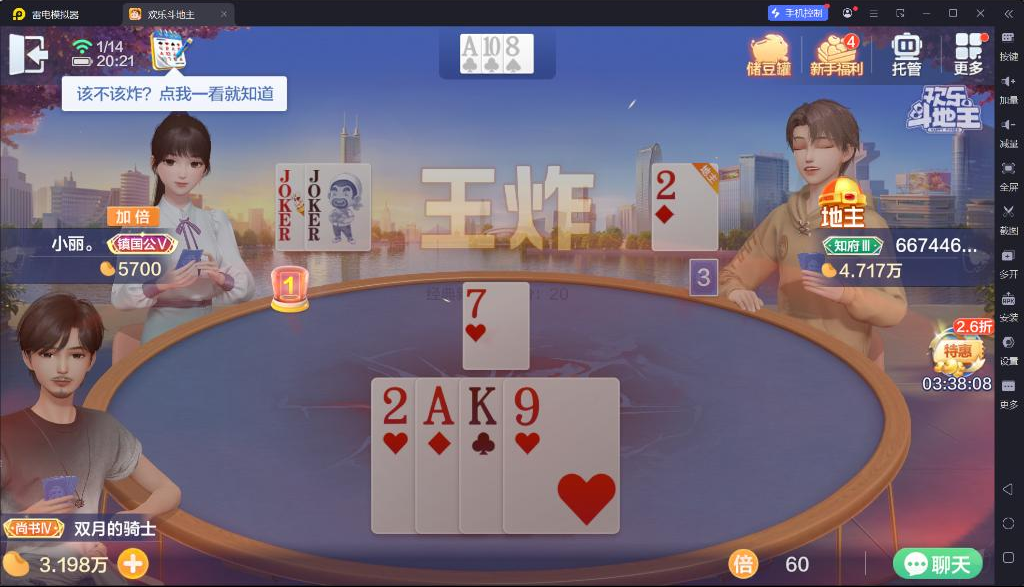A: (420, 382, 456, 430), (461, 34, 479, 58)
JOKER: (276, 168, 294, 218)
K: (464, 383, 499, 428)
eight: (504, 34, 522, 57)
joker: (307, 167, 323, 216)
nine: (508, 385, 541, 429)
seven: (464, 287, 489, 319)
ten: (483, 35, 502, 56)
two: (380, 384, 410, 427), (654, 169, 679, 202)
